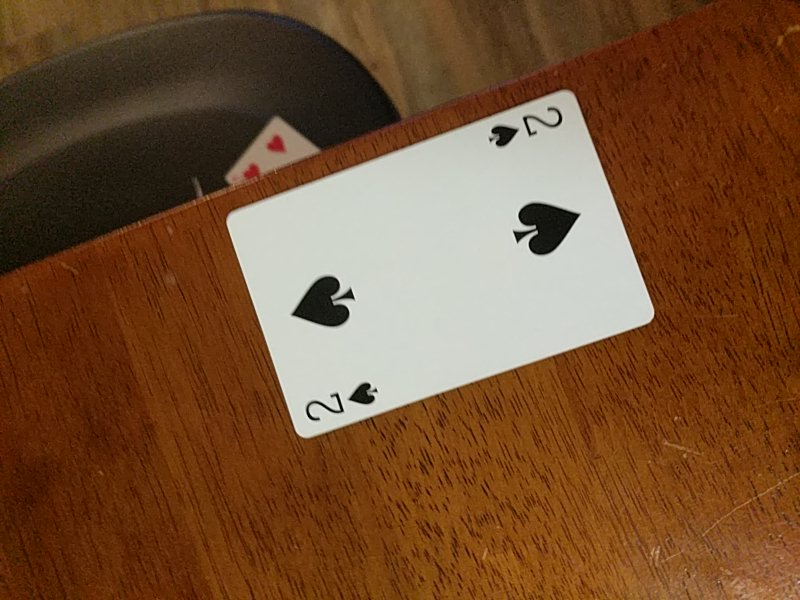Spades: (221, 86, 655, 439)
